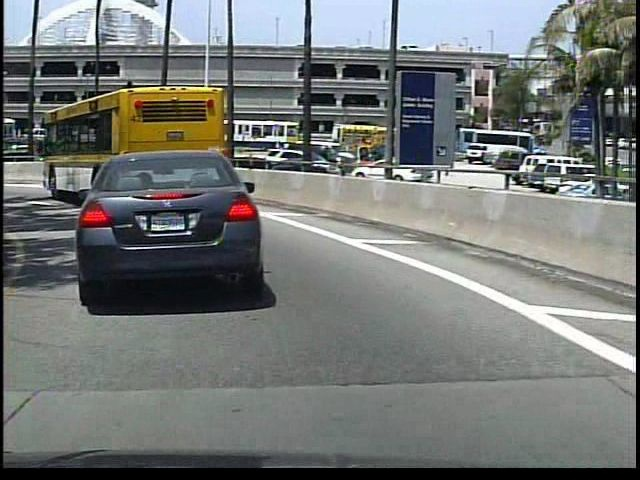person: (313, 142, 332, 178)
